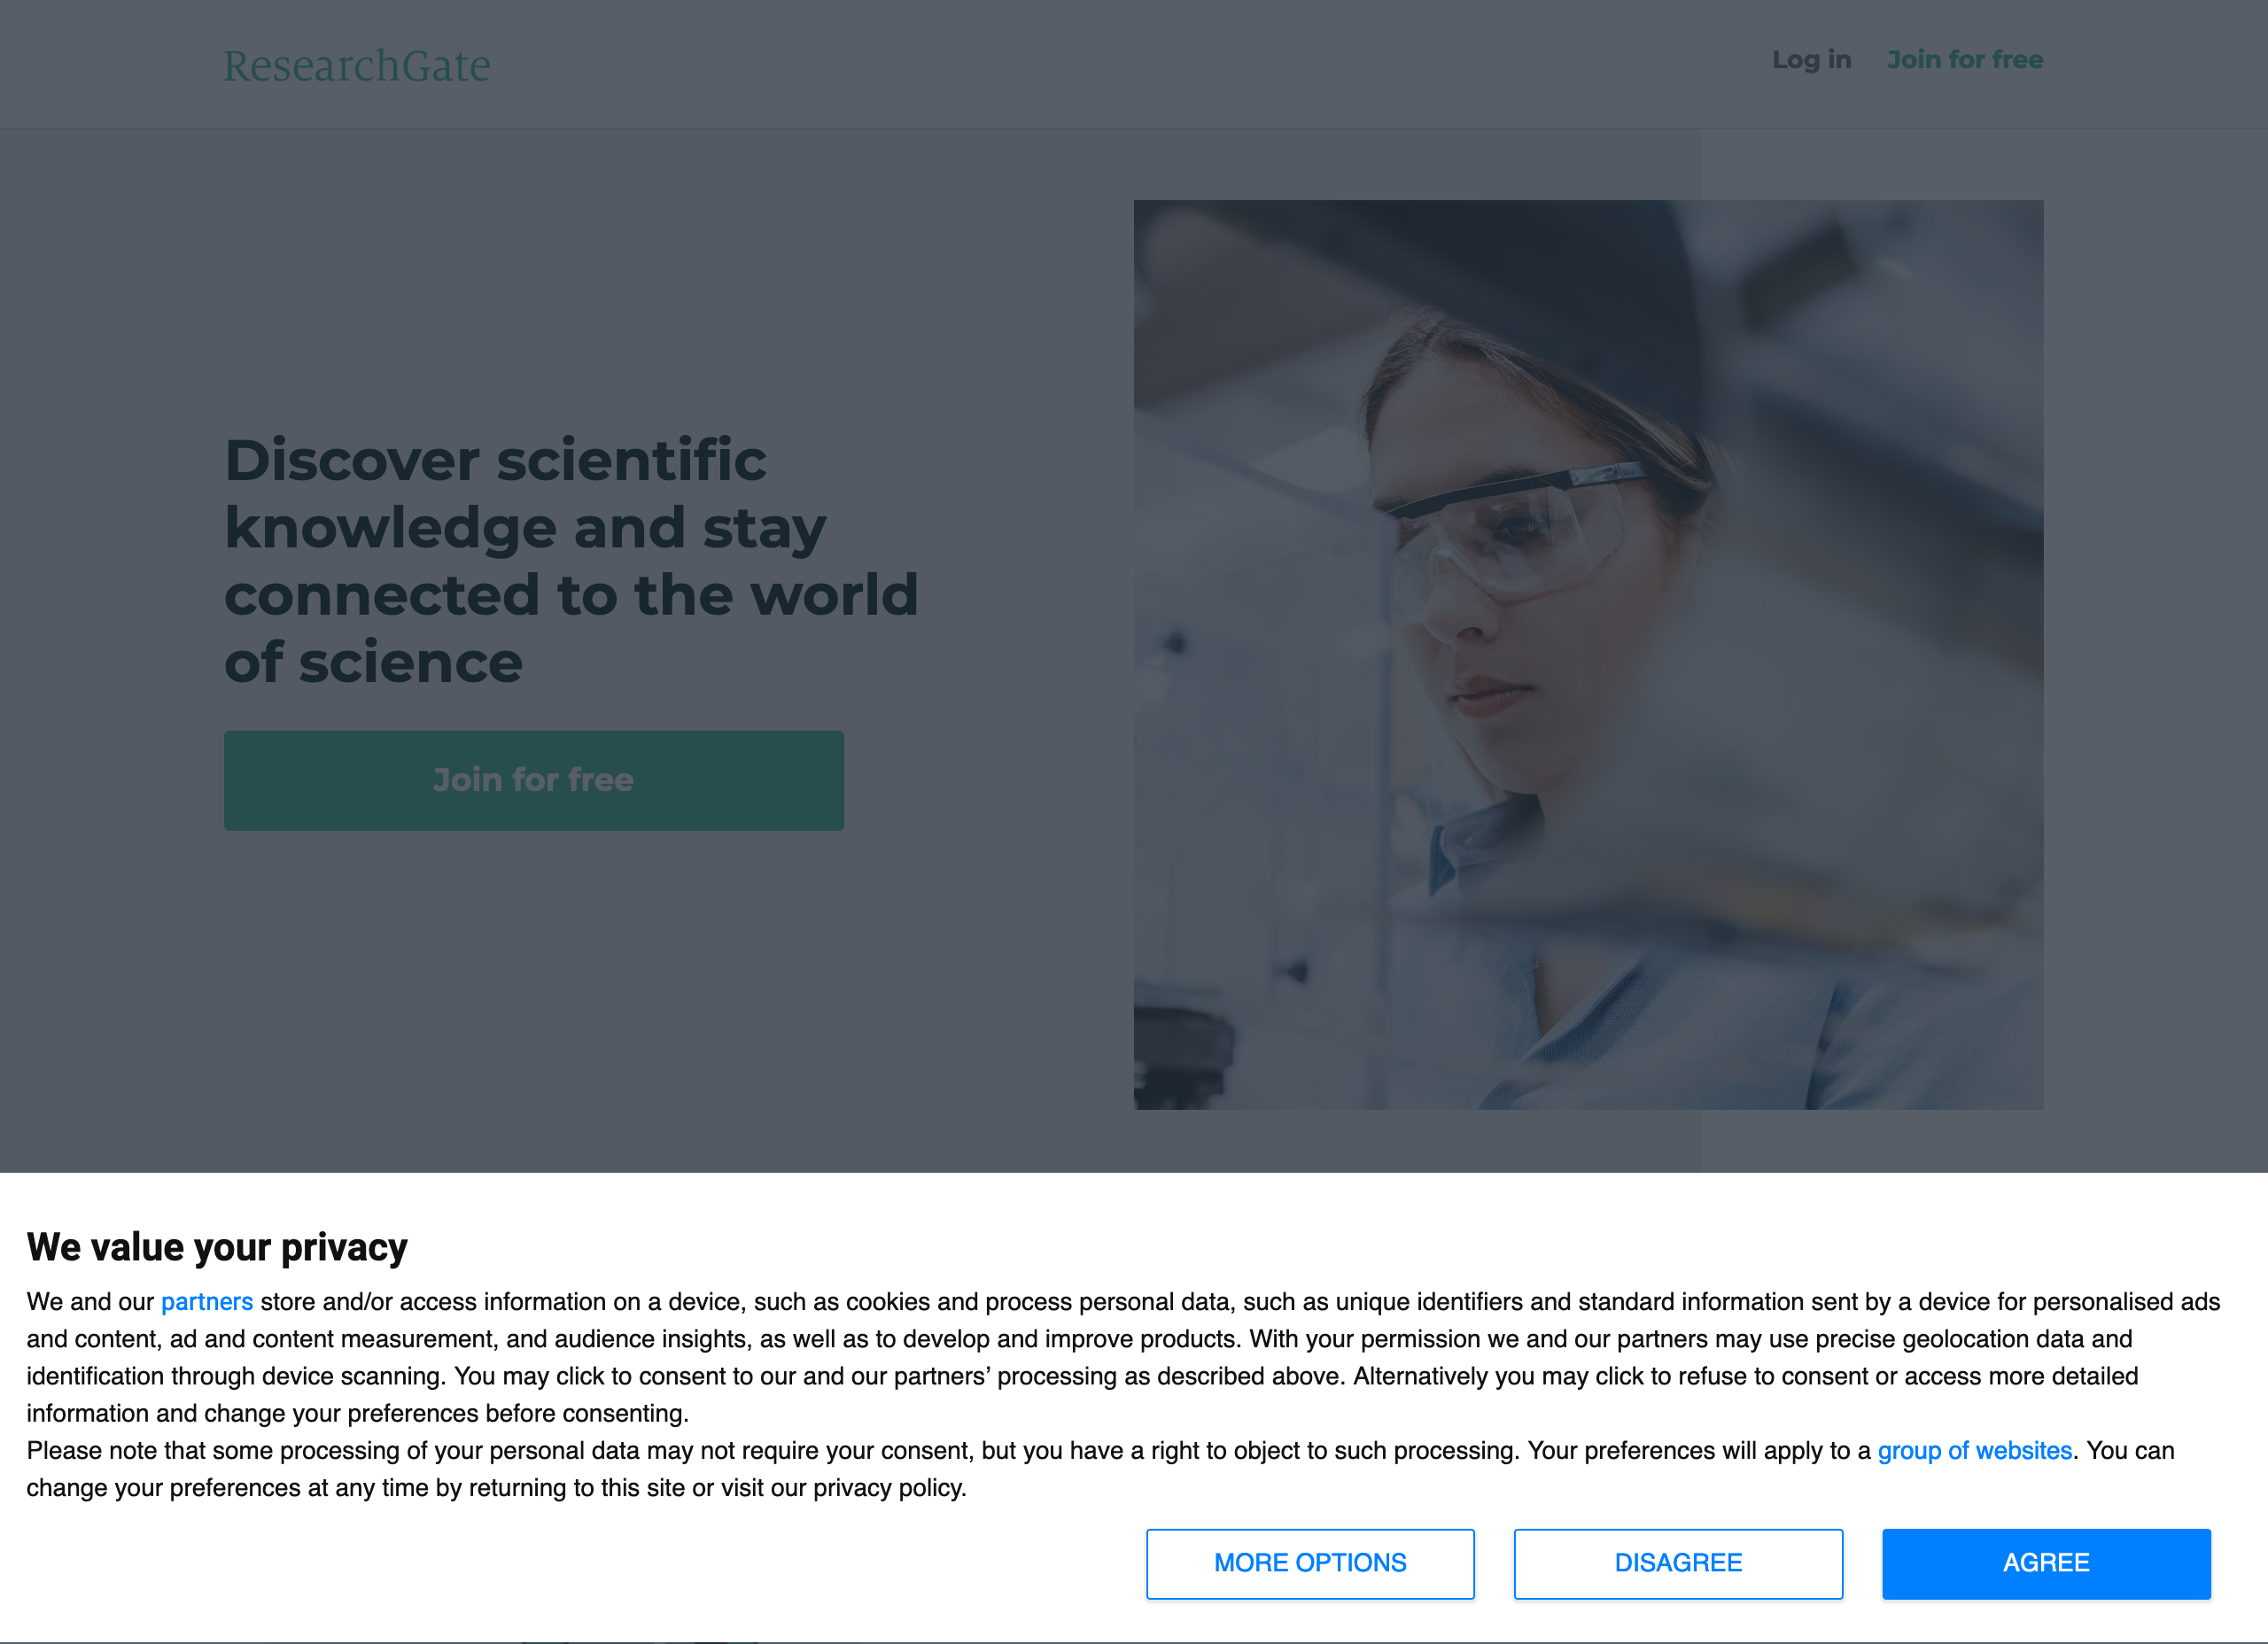Login: (1757, 33, 1865, 83)
